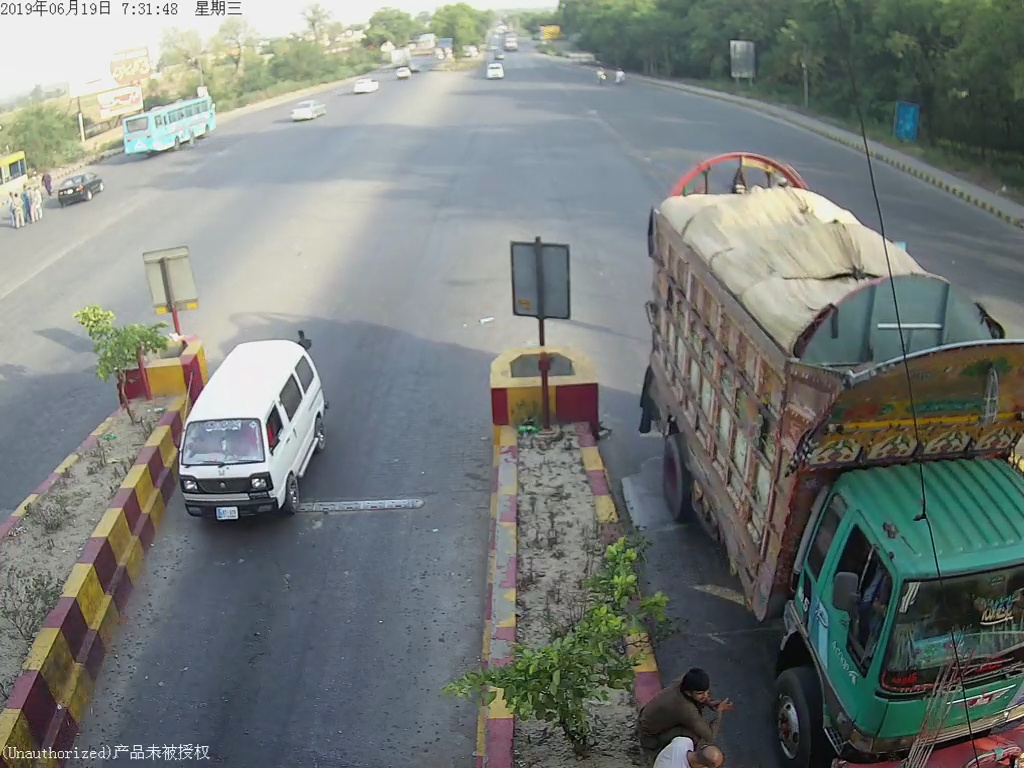Cat-1: (176, 334, 332, 530)
